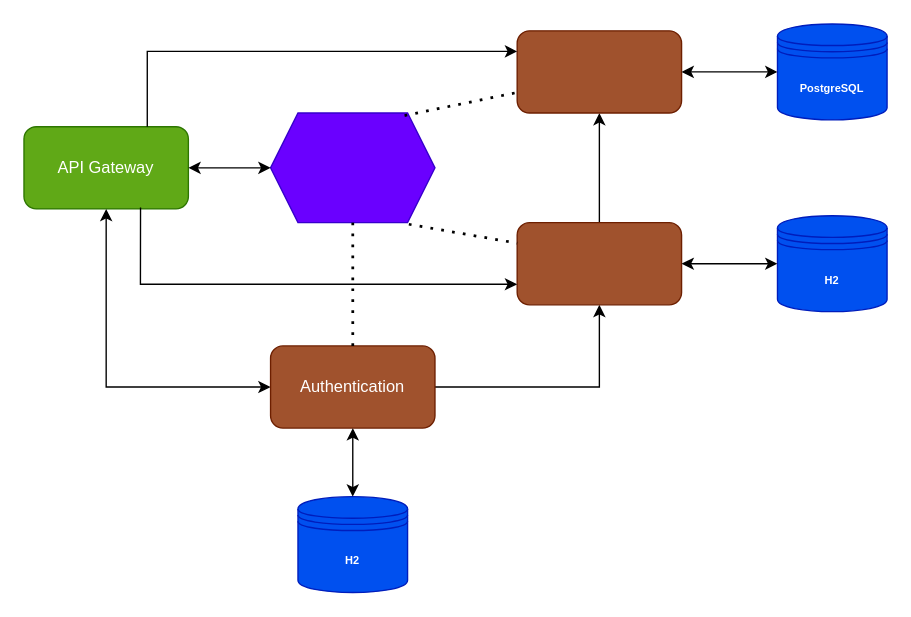
This 911x617 diagram has some shape labels left out. Each missing label, with the box of its shape:
Eureka Server: (269, 112, 435, 223)
Gym Main: (516, 221, 682, 305)
Gym Statistics: (516, 29, 682, 113)
